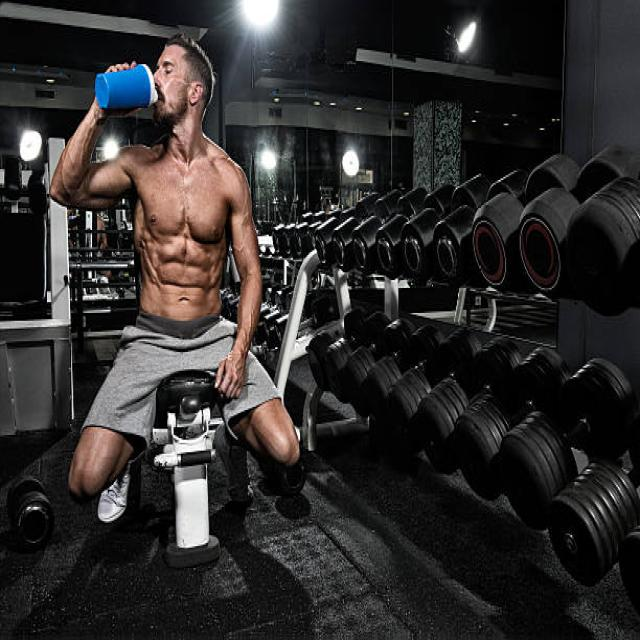no_helmet: (153, 132, 234, 182)
